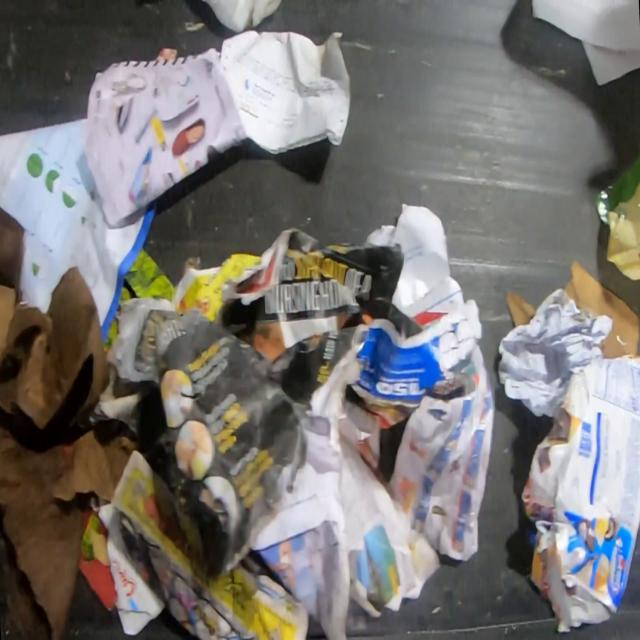cardboard: (0, 202, 138, 638), (520, 355, 640, 632), (565, 260, 640, 359)
soft_plastic: (594, 153, 640, 282)
